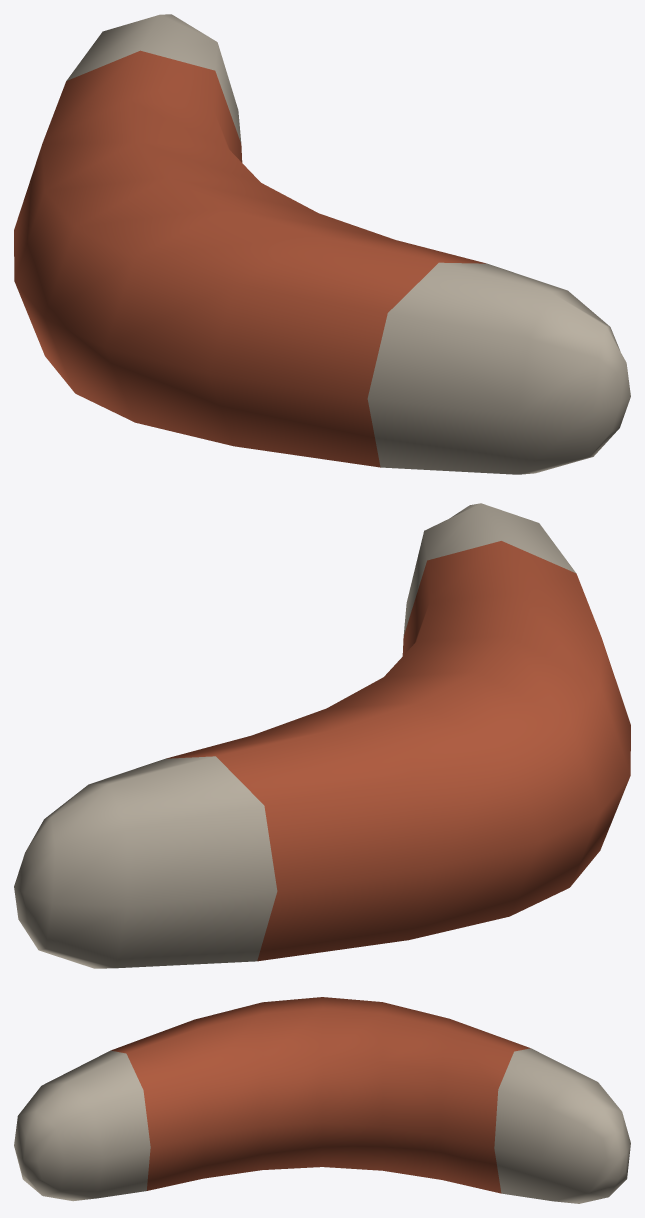
Rendered from Boomerang.fbx.
The picture shows the model from 3 angles, top to bottom: view 1: azimuth 30°, elevation 25°; view 2: azimuth 150°, elevation 25°; view 3: azimuth 270°, elevation 25°; orthographic projection. The views are drawn at different scales.
Parts seen in each view (by area): view 1: Boomerang; view 2: Boomerang; view 3: Boomerang.
Part boxes in pixels (x1,y1,x2,y2): Boomerang: (14,14,630,474); Boomerang: (14,503,630,968); Boomerang: (14,997,630,1203).
Bounding box in the file's own units: 49.45 × 28.25 × 108.
Materials: 1 (1 with a texture image).
